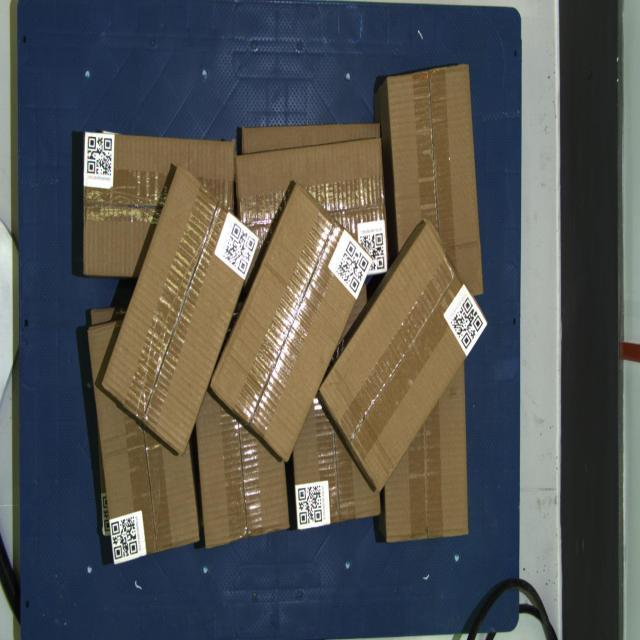box: (101, 162, 260, 458), (209, 181, 374, 464), (319, 220, 488, 492)
